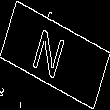N_S: (35, 24, 75, 86)
